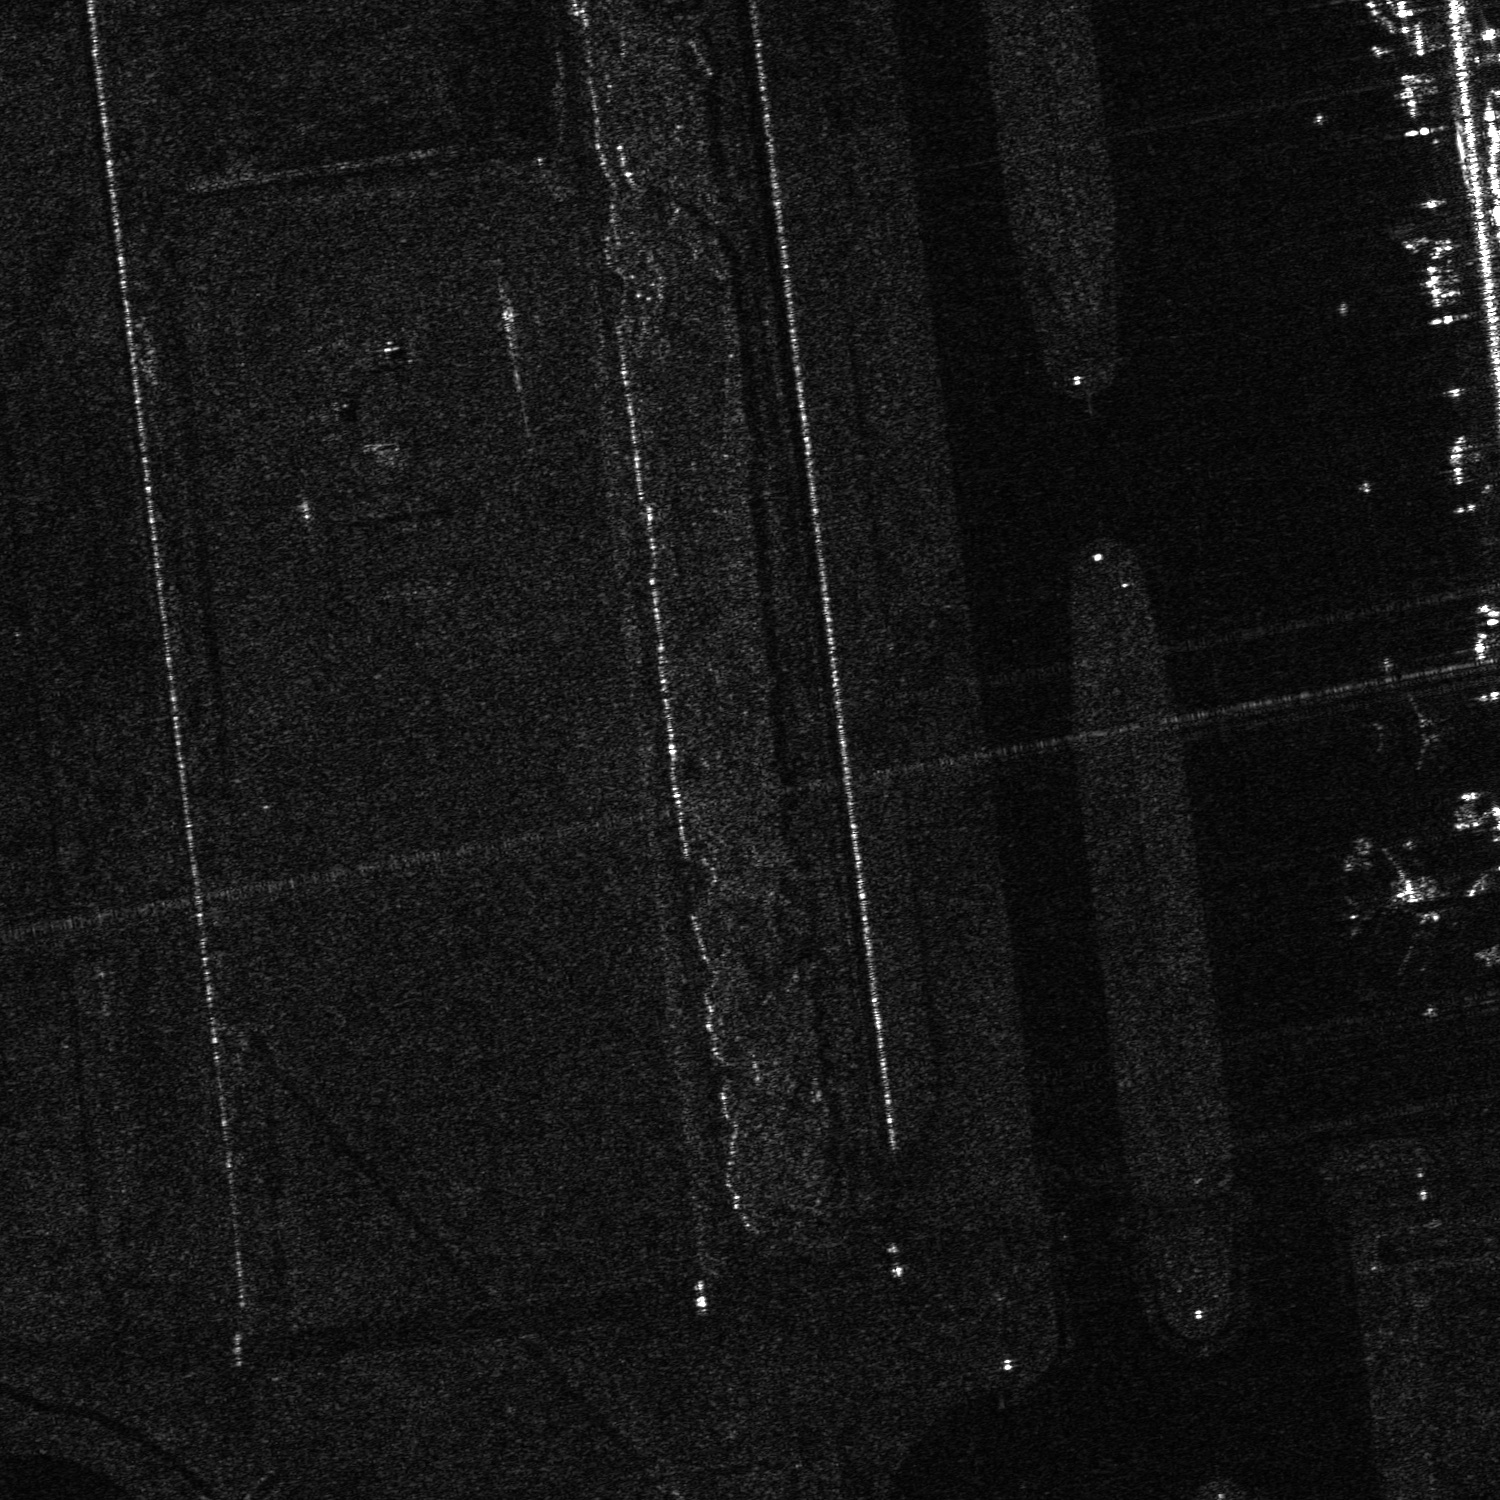Boeing787: (1346, 848, 1456, 971), (1365, 690, 1453, 772)
